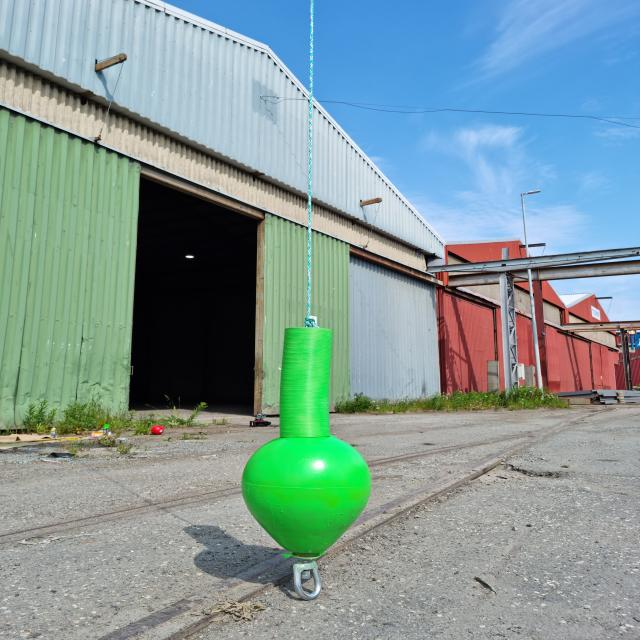green: (242, 328, 374, 558)
